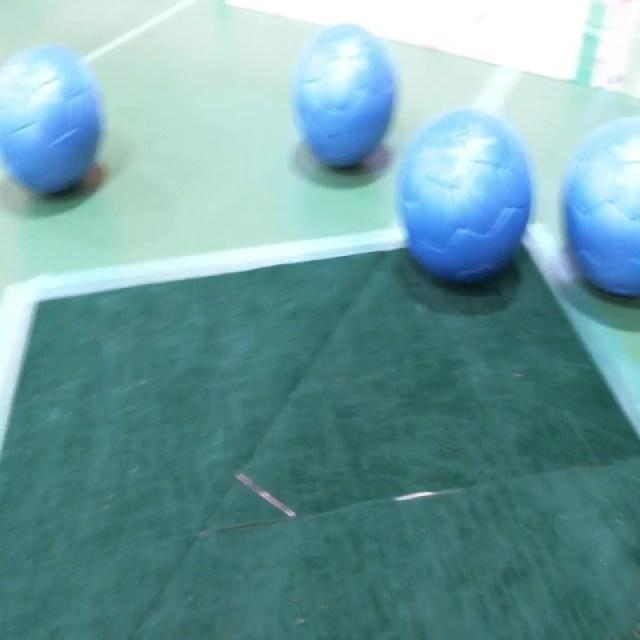blue_ball: (400, 110, 532, 287), (291, 22, 398, 174), (559, 118, 640, 302), (0, 50, 101, 196)
